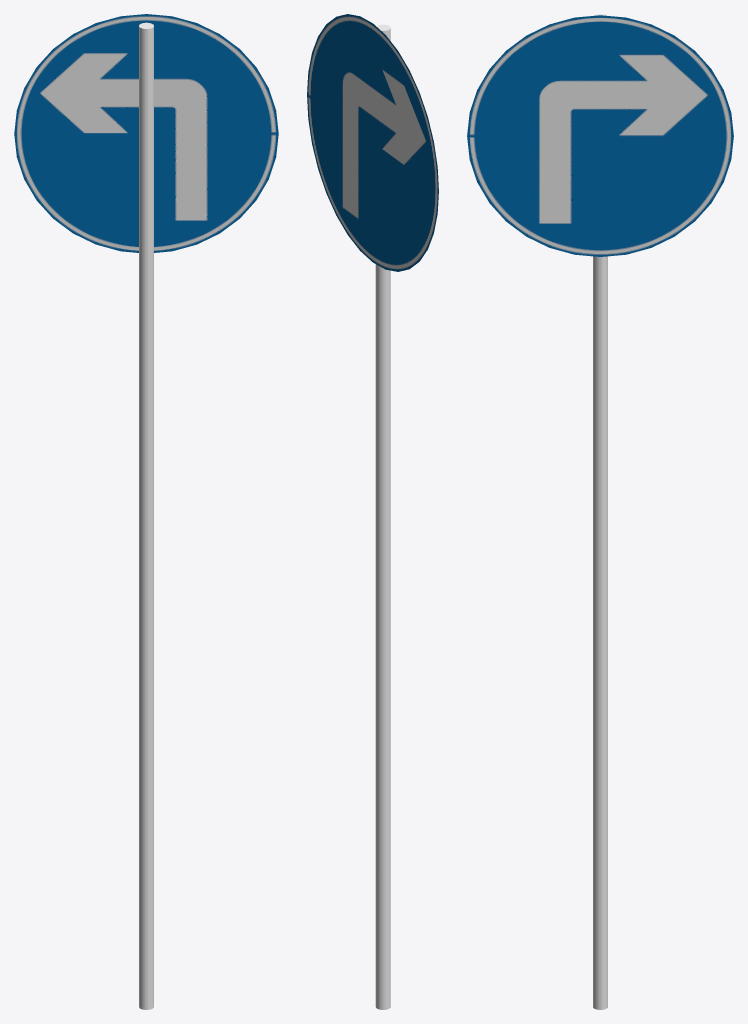
File: ik ben zo bord.fbx
3 views of the same model, side by side, from view 1: azimuth 90°, elevation 25°; view 2: azimuth 210°, elevation 25°; view 3: azimuth 270°, elevation 25° (orthographic).
Parts seen in each view (by area): view 1: Circle; view 2: Circle; view 3: Circle.
Part boxes in pixels (box(x1,y1,x2,y2)): Circle: box(14, 14, 278, 1009); Circle: box(307, 14, 438, 1009); Circle: box(467, 14, 733, 1009).
Size of the model in its own units: 14.62 by 824 by 200.
Materials: 1 (1 with a texture image).
